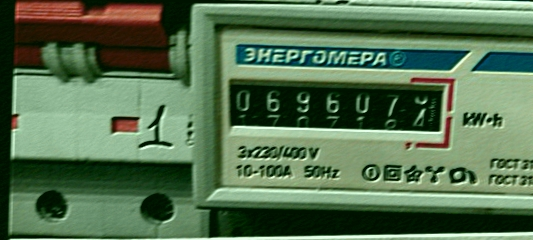0: (236, 86, 254, 110), (356, 88, 372, 113)
4: (412, 104, 429, 129)
6: (266, 87, 284, 111), (326, 88, 344, 112)
7: (386, 90, 402, 117)
9: (296, 88, 313, 112)
screen: (216, 63, 460, 145)
